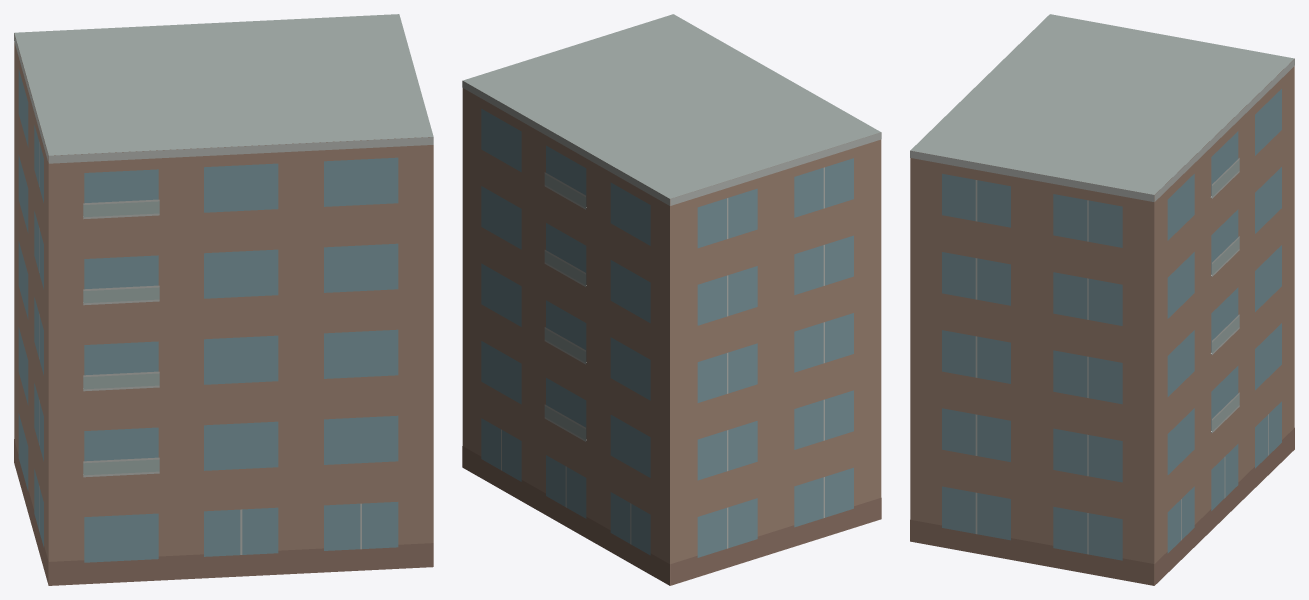
Rendered from survey-upis-32981848.glb.
The picture shows the model from 3 angles, left to right: view 1: azimuth 30°, elevation 25°; view 2: azimuth 150°, elevation 25°; view 3: azimuth 270°, elevation 25°; orthographic projection. The views are drawn at different scales.
Visible parts, largest first — view 1: survey-upis-32981848.tmp; view 2: survey-upis-32981848.tmp; view 3: survey-upis-32981848.tmp.
Part boxes in pixels (x1,y1,x2,y2): survey-upis-32981848.tmp: [14, 14, 433, 585]; survey-upis-32981848.tmp: [462, 14, 881, 585]; survey-upis-32981848.tmp: [910, 14, 1294, 585].
Size of the model in its own units: 13.02 by 13.11 by 11.7.
